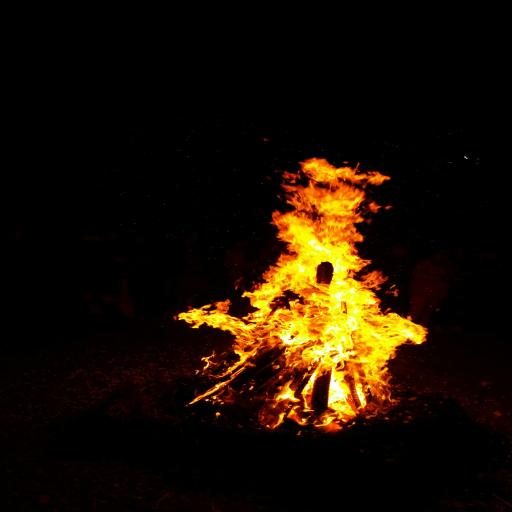campfire: (118, 139, 468, 456)
